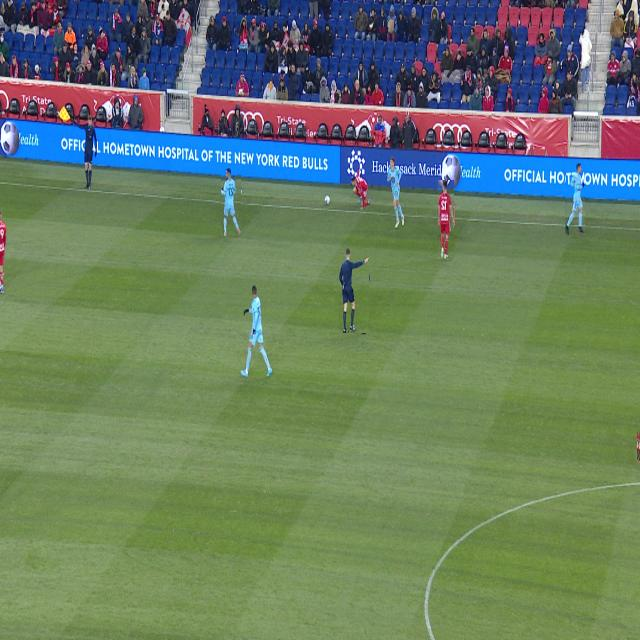player: (241, 286, 272, 378), (565, 163, 585, 235), (222, 168, 241, 236), (387, 158, 404, 228), (439, 181, 454, 259), (0, 210, 6, 294), (637, 432, 640, 462)
referee: (340, 249, 369, 333)
